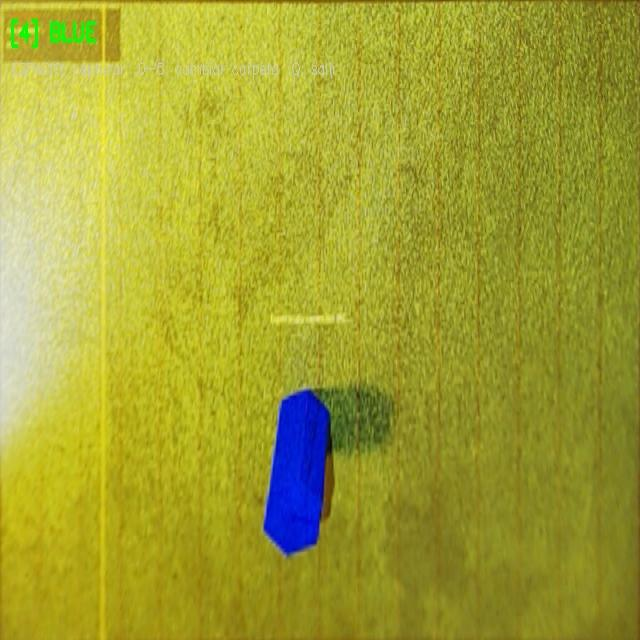blue: (263, 389, 330, 556)
